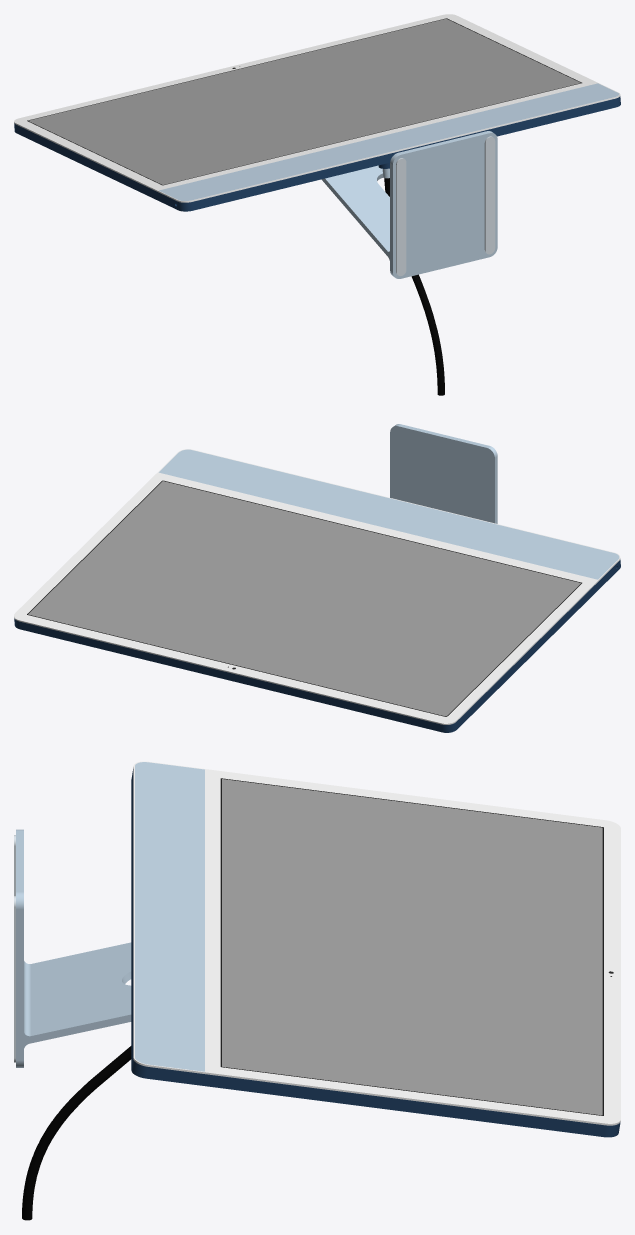
The model's file is iMac 24_ (2021).glb.
3 views of the same model, one above another, from view 1: azimuth 30°, elevation 25°; view 2: azimuth 150°, elevation 25°; view 3: azimuth 270°, elevation 25° (orthographic). The views are drawn at different scales.
Parts seen in each view (by area): view 1: iMac 24" 2021 v15; view 2: iMac 24" 2021 v15; view 3: iMac 24" 2021 v15.
Part boxes in pixels (<box>): iMac 24" 2021 v15: <box>14,14,620,395</box>; iMac 24" 2021 v15: <box>14,424,620,732</box>; iMac 24" 2021 v15: <box>14,761,620,1220</box>.
Size of the model in its own units: 0.547 by 0.3002 by 0.4625.
